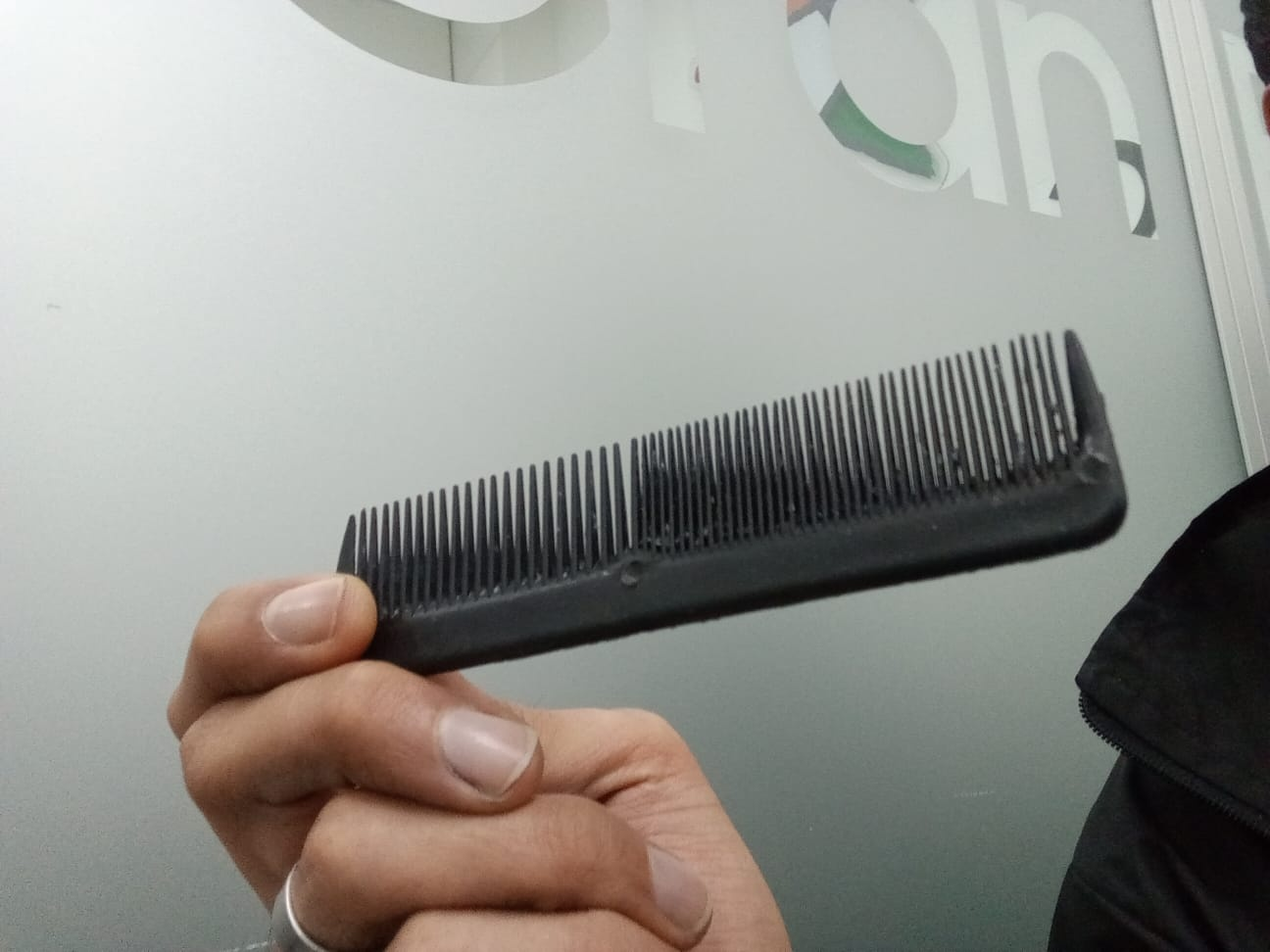Plastico: (335, 327, 1127, 674)
